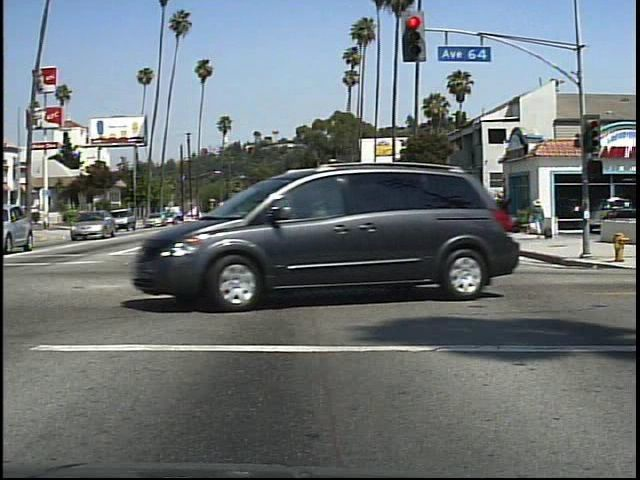person: (533, 195, 545, 243)
